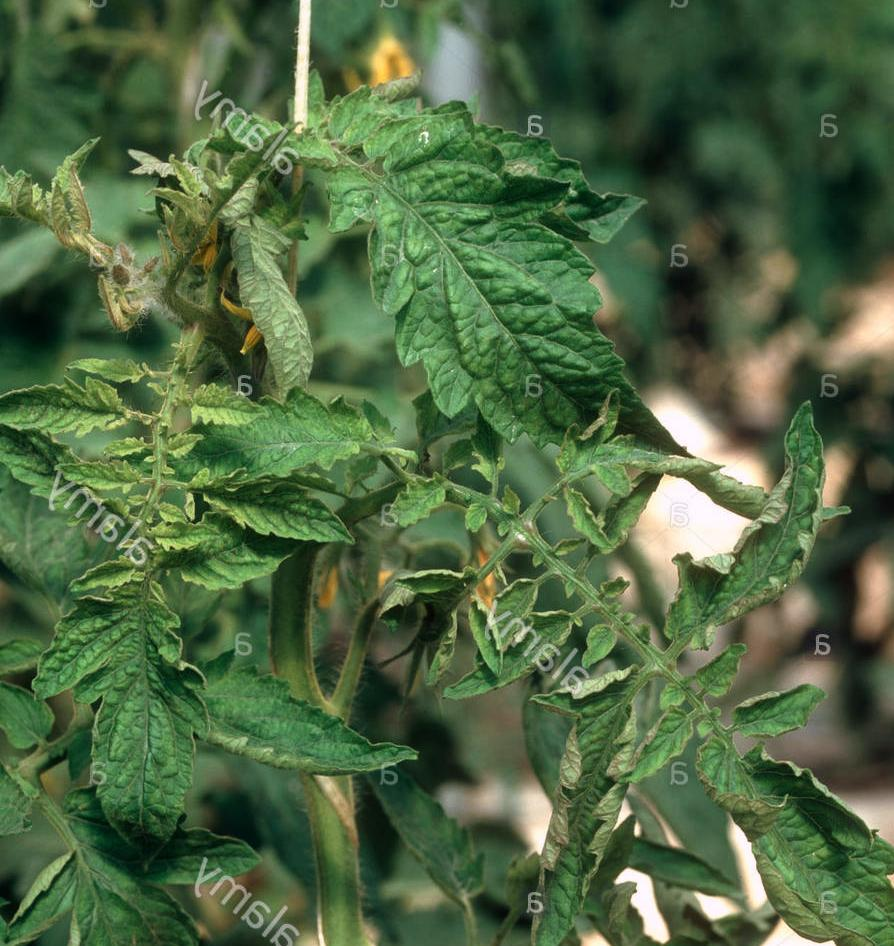Tomato leaf yellow virus: (282, 107, 651, 473), (680, 706, 894, 946), (30, 578, 203, 871), (0, 359, 141, 451)
